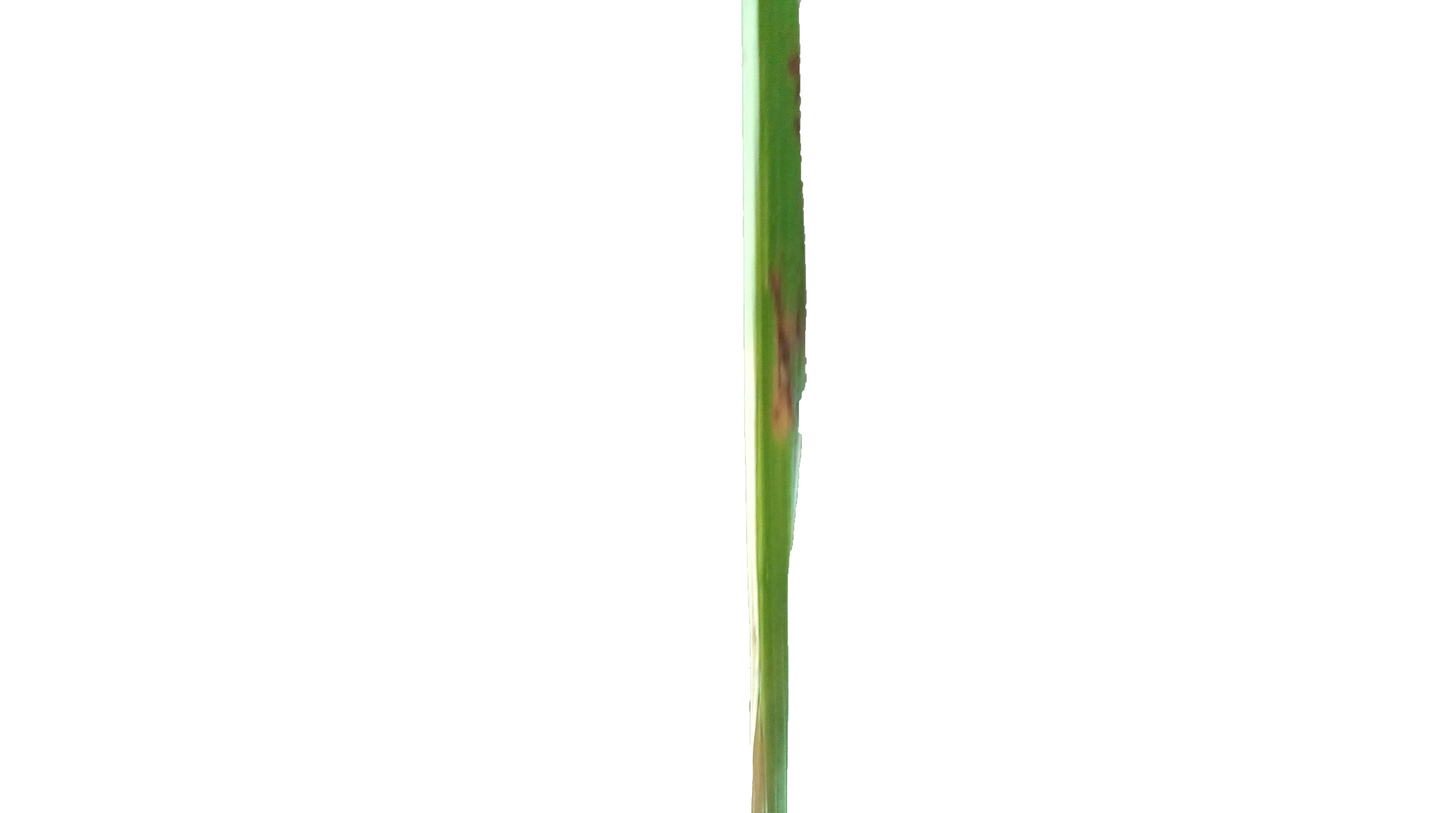Rice blast: (782, 47, 800, 142)
